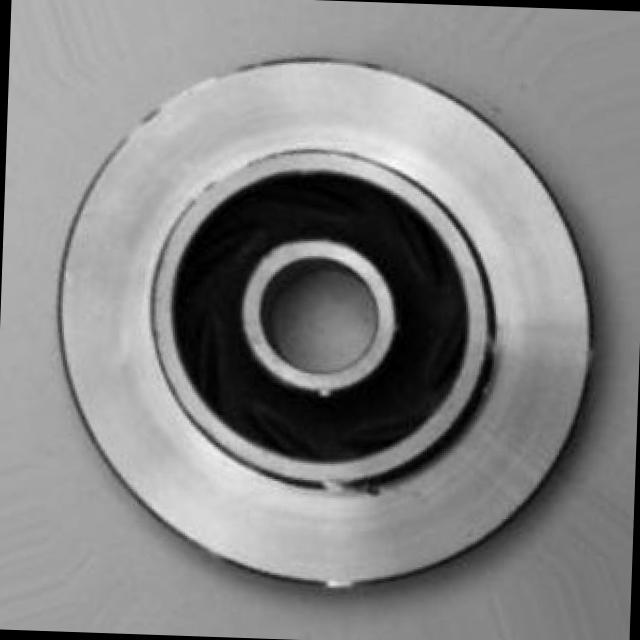Defect: (318, 468, 352, 503)
